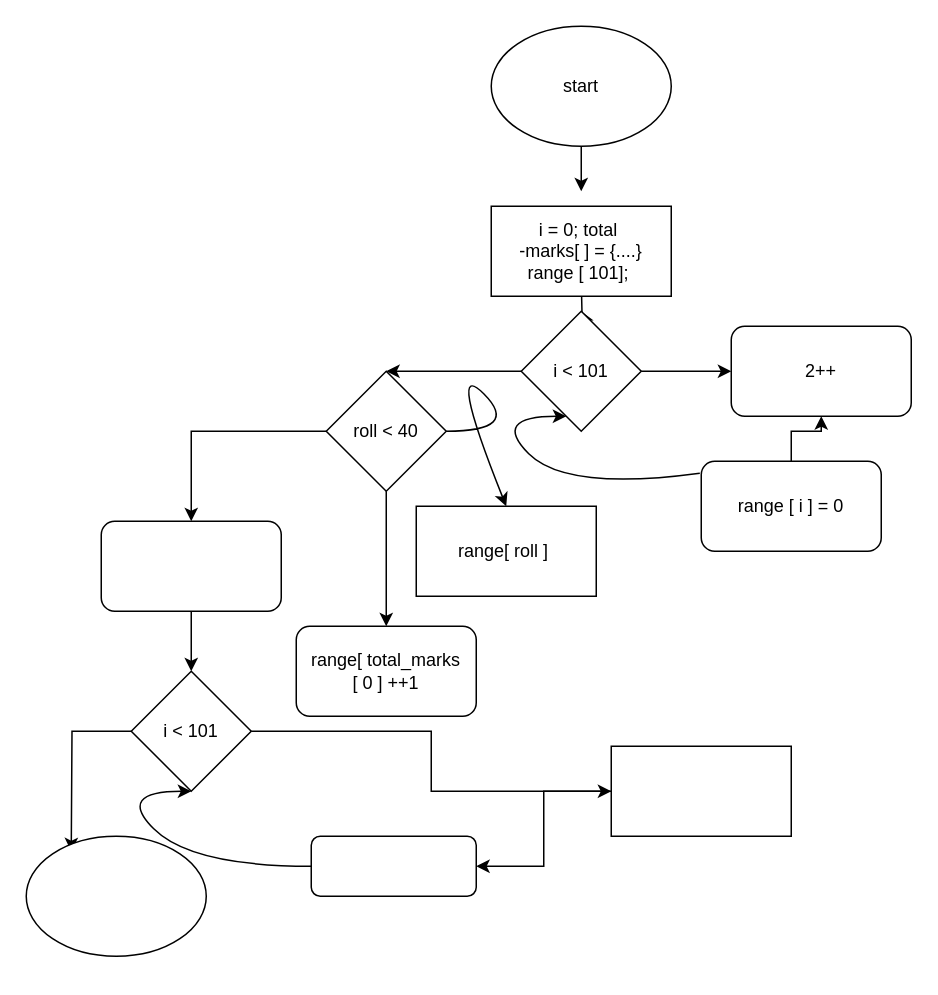
The diagram is 938 pixels wide and 995 high, and some of its shapes have lost their labels. The shapes that lost their labels are listed below. From the top down, each one's box as (x1, y1, x2, y2) in pixels, then its label:
(100, 520, 281, 611): i = 0
(610, 745, 791, 836): write [ i ], range [ i ];
(310, 835, 476, 896): i ++
(25, 835, 206, 956): end
